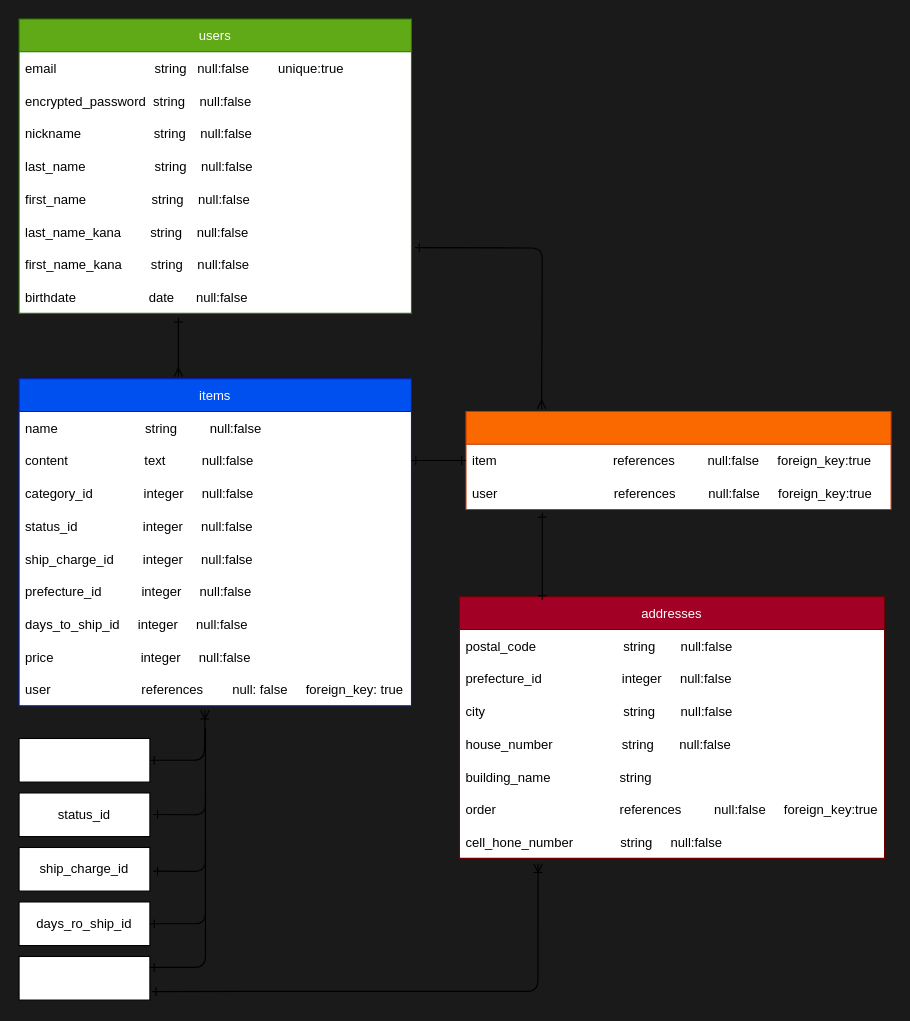
This 910x1021 diagram has some shape labels left out. Each missing label, with the box of its shape:
category_id: (18, 737, 150, 782)
orders: (465, 410, 891, 510)
prefecture_id: (18, 955, 150, 1000)
